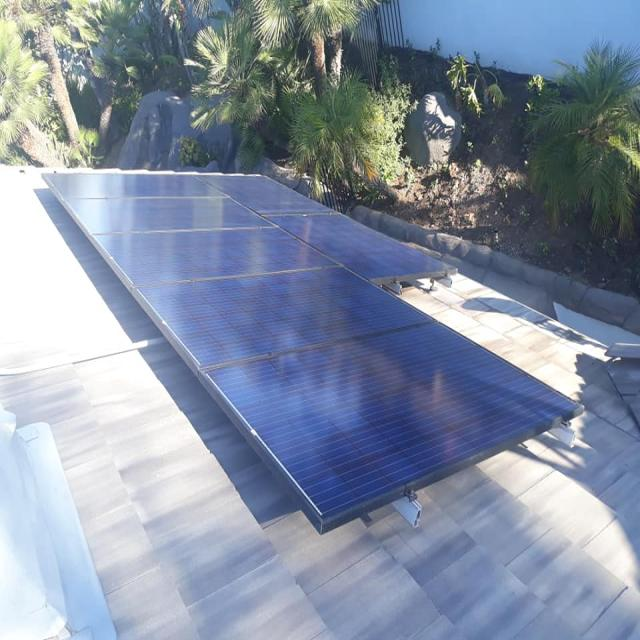clean-solar-panel: (46, 172, 582, 533)
